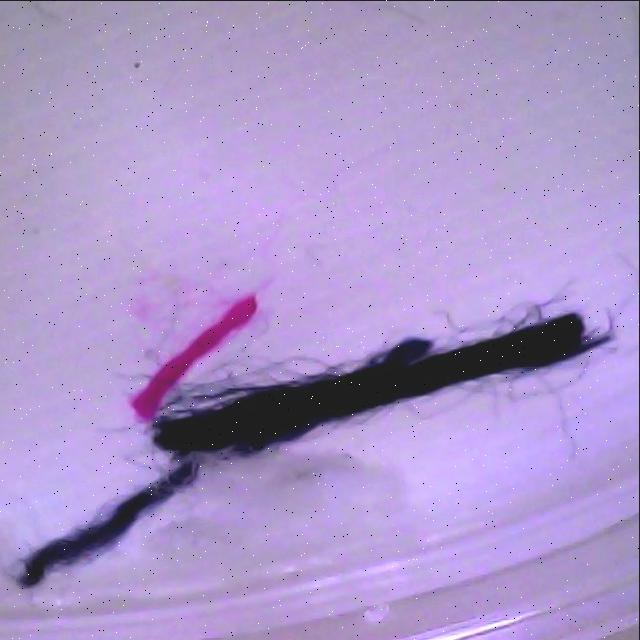Fibre: (120, 288, 272, 420), (288, 0, 439, 38)
